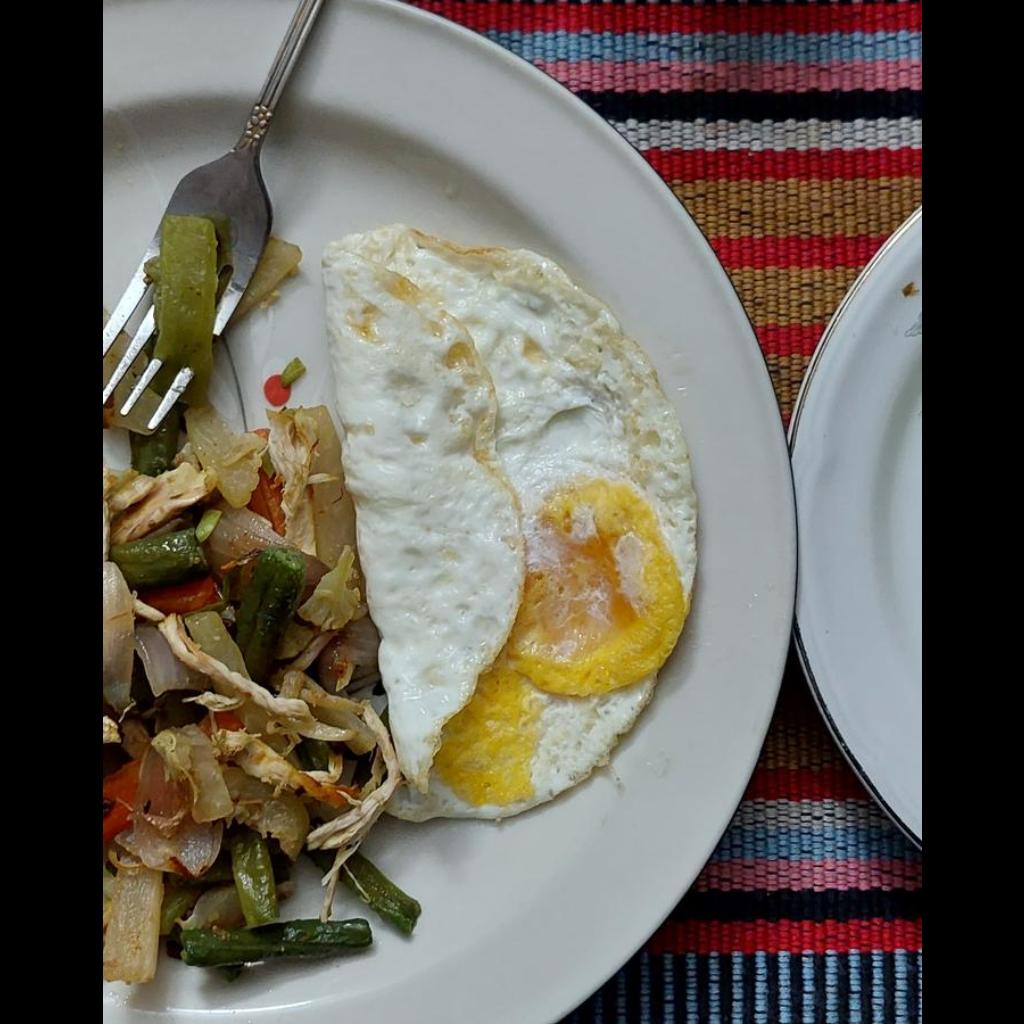egg-poached: (318, 226, 698, 817)
vegetable: (102, 402, 416, 984)
